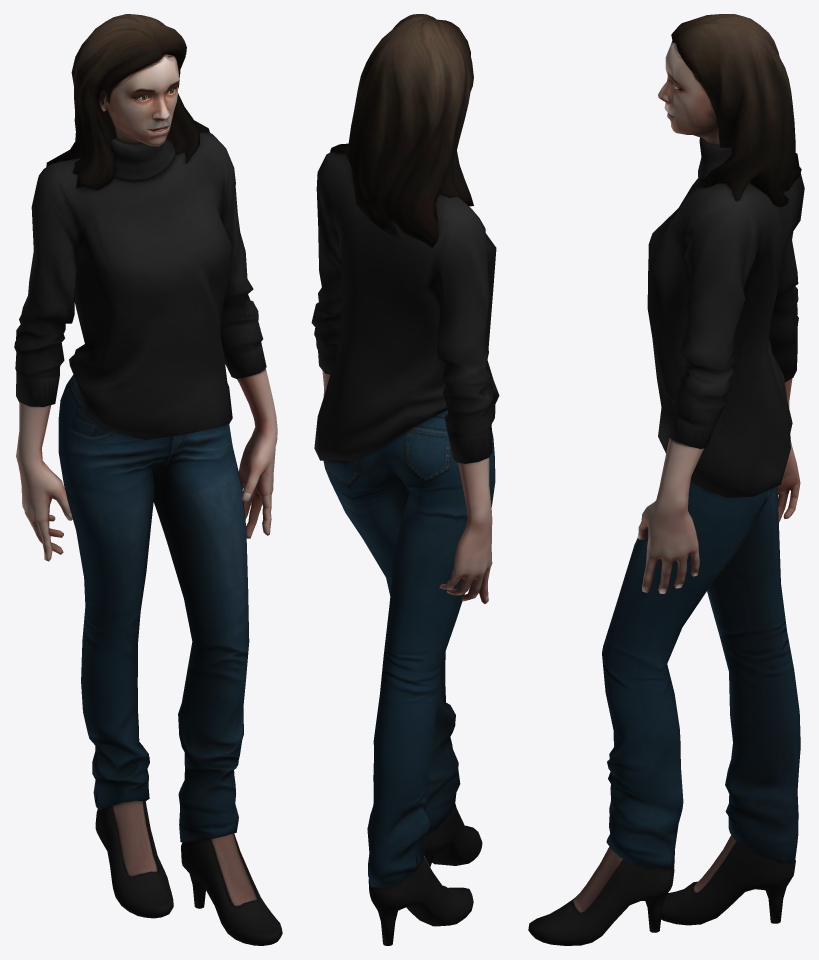
File: mira.glb
3 views of the same model, side by side, from view 1: azimuth 30°, elevation 25°; view 2: azimuth 150°, elevation 25°; view 3: azimuth 270°, elevation 25° (orthographic). The views are drawn at different scales.
Parts seen in each view (by area): view 1: pose; view 2: pose; view 3: pose.
Boxes of the visible parts, <box> form: pose: <box>14,14,282,945</box>; pose: <box>311,14,499,945</box>; pose: <box>528,14,804,945</box>.
Bounding box in the file's own units: 47.42 × 191 × 52.77.
Materials: 1 (1 with a texture image).
